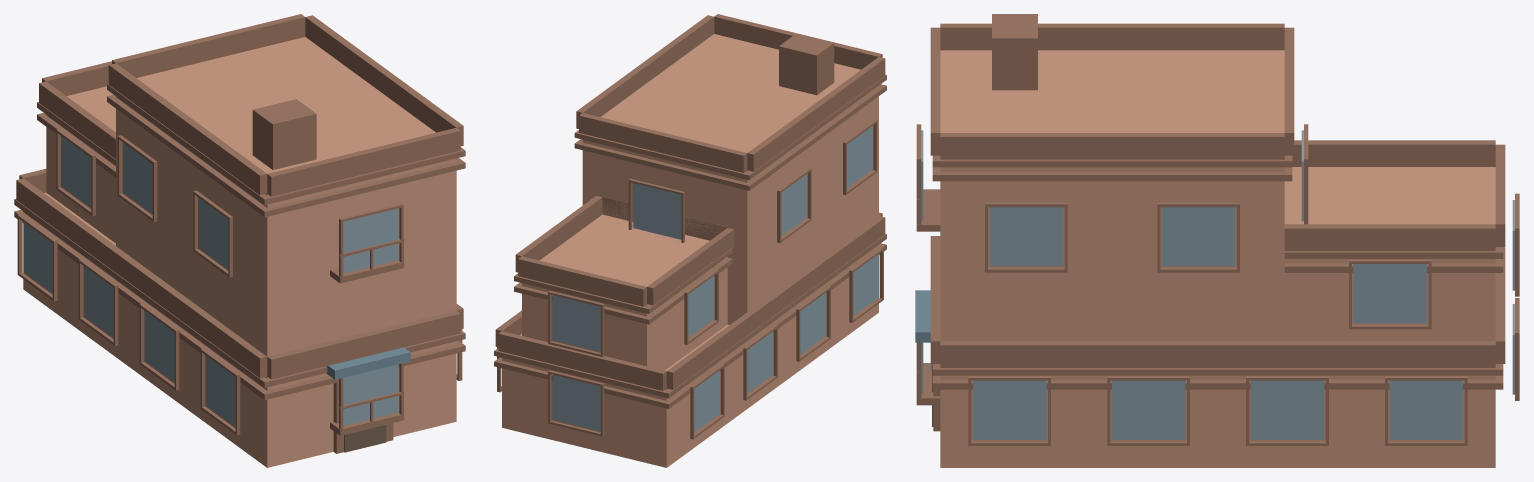
File: residential_1x2_court.glb
3 views of the same model, side by side, from view 1: azimuth 30°, elevation 25°; view 2: azimuth 150°, elevation 25°; view 3: azimuth 270°, elevation 25° (orthographic). The views are drawn at different scales.
Visible parts, largest first — view 1: residential_1x2_court_0; view 2: residential_1x2_court_0; view 3: residential_1x2_court_0.
Boxes of the visible parts, box(x1,y1,x2,y2) form: residential_1x2_court_0: box(14, 14, 465, 467); residential_1x2_court_0: box(494, 14, 886, 467); residential_1x2_court_0: box(915, 14, 1519, 467).
Size of the model in its own units: 7.74 by 10.5 by 15.77.
